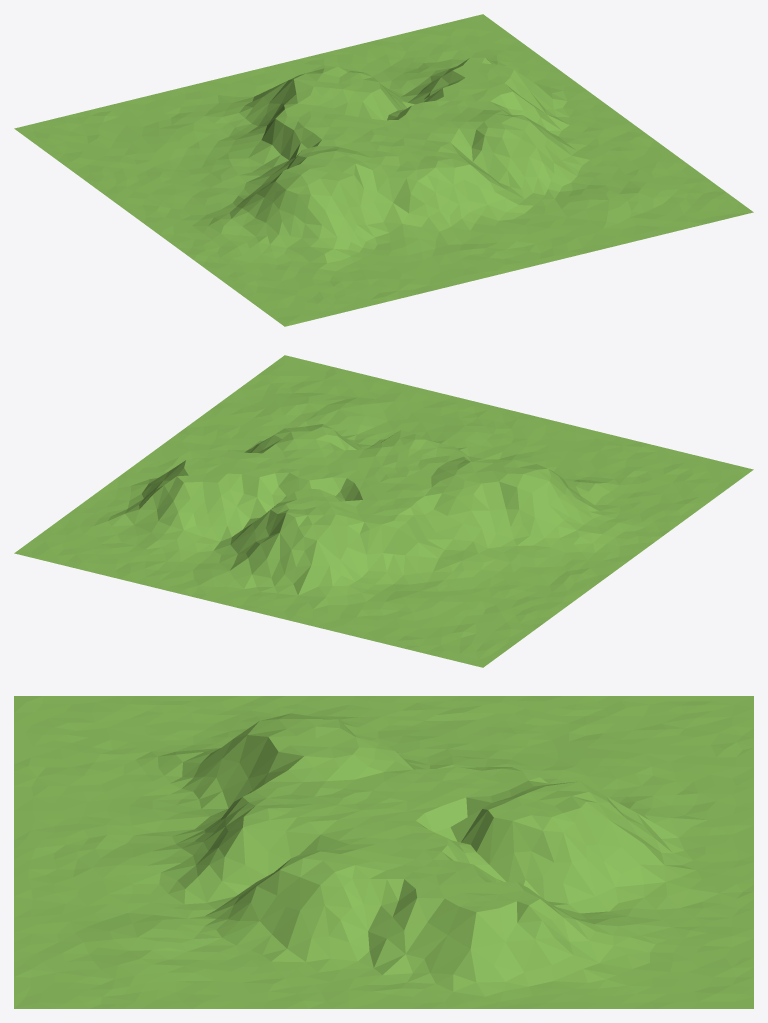
The model's file is MT_Terrain_L_c_09_LOD.fbx.
3 views of the same model, one above another, from view 1: azimuth 30°, elevation 25°; view 2: azimuth 150°, elevation 25°; view 3: azimuth 270°, elevation 25° (orthographic). The views are drawn at different scales.
Parts seen in each view (by area): view 1: MT_Terrain_L_c_09_LOD0; view 2: MT_Terrain_L_c_09_LOD0; view 3: MT_Terrain_L_c_09_LOD0.
Boxes of the visible parts, box(x1,y1,x2,y2) form: MT_Terrain_L_c_09_LOD0: box(14, 14, 753, 326); MT_Terrain_L_c_09_LOD0: box(14, 355, 753, 667); MT_Terrain_L_c_09_LOD0: box(14, 696, 753, 1008).
Size of what is drawn, in the model's own units: 10000 by 940 by 10000.
